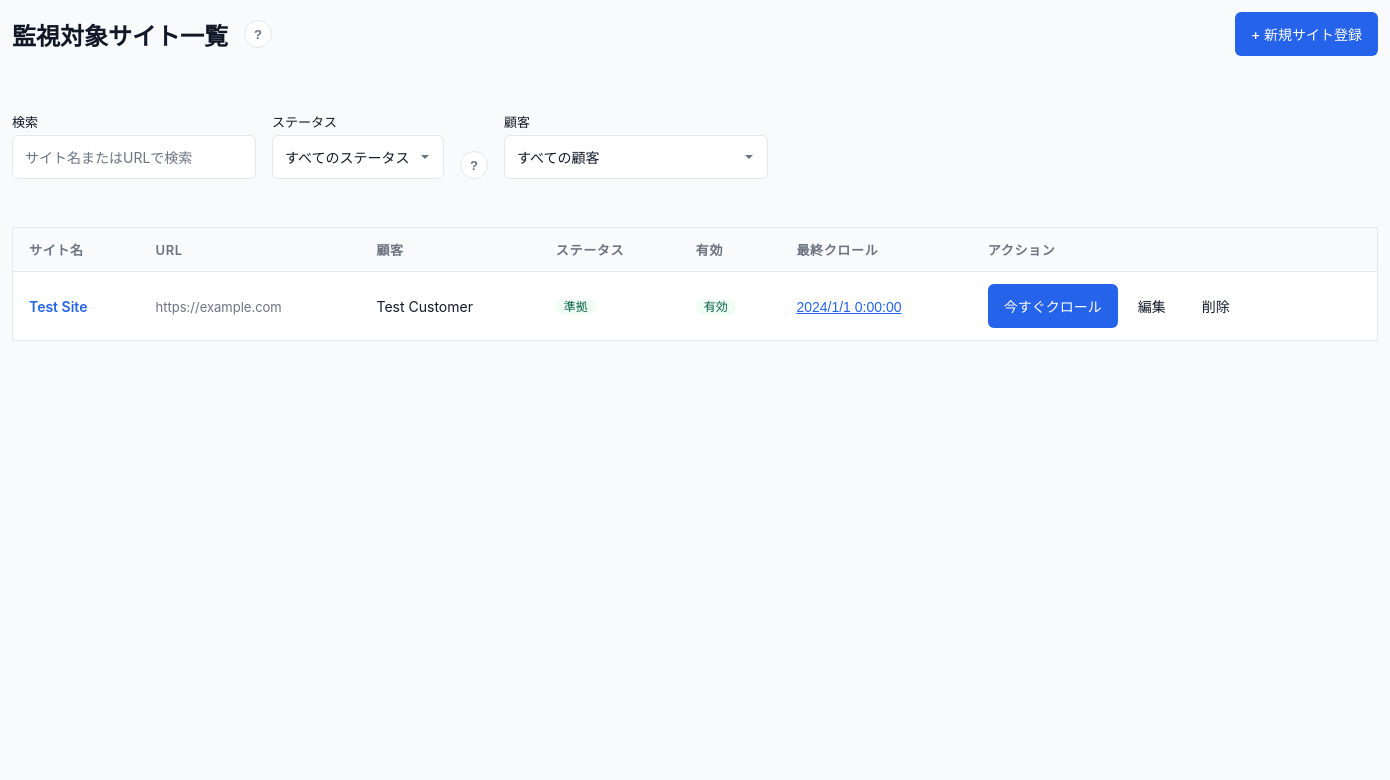
Sites - Crawl Button › should show error toast when crawl fails
Click the button "今すぐクロール". click: (1053, 306)
box: 988,284 -> 1118,328
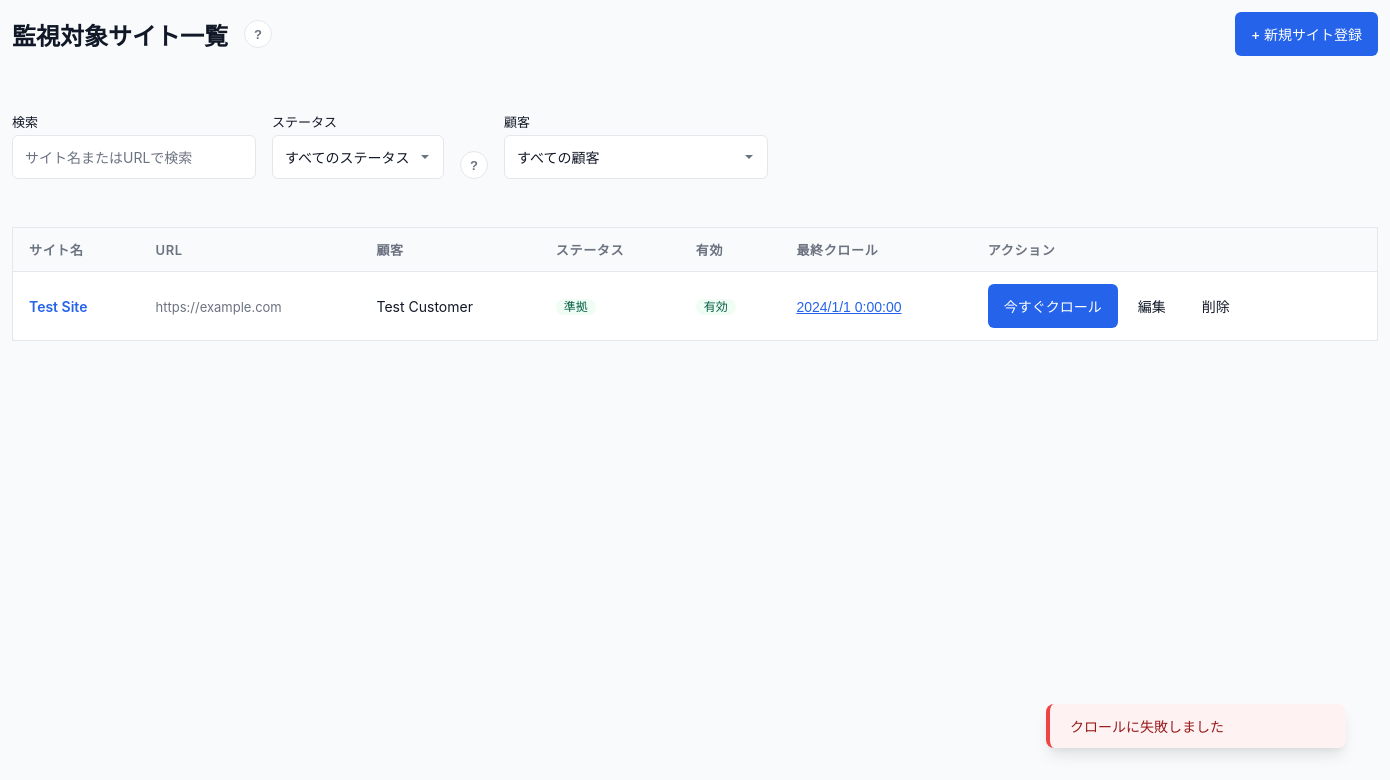
Expected: the message "クロールに失敗しました" is shown, 1046,704 -> 1346,748
